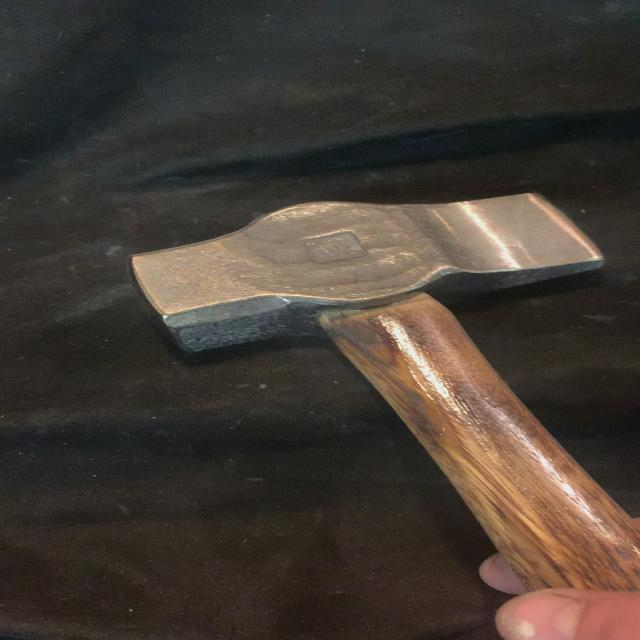hammer: (108, 185, 640, 624)
